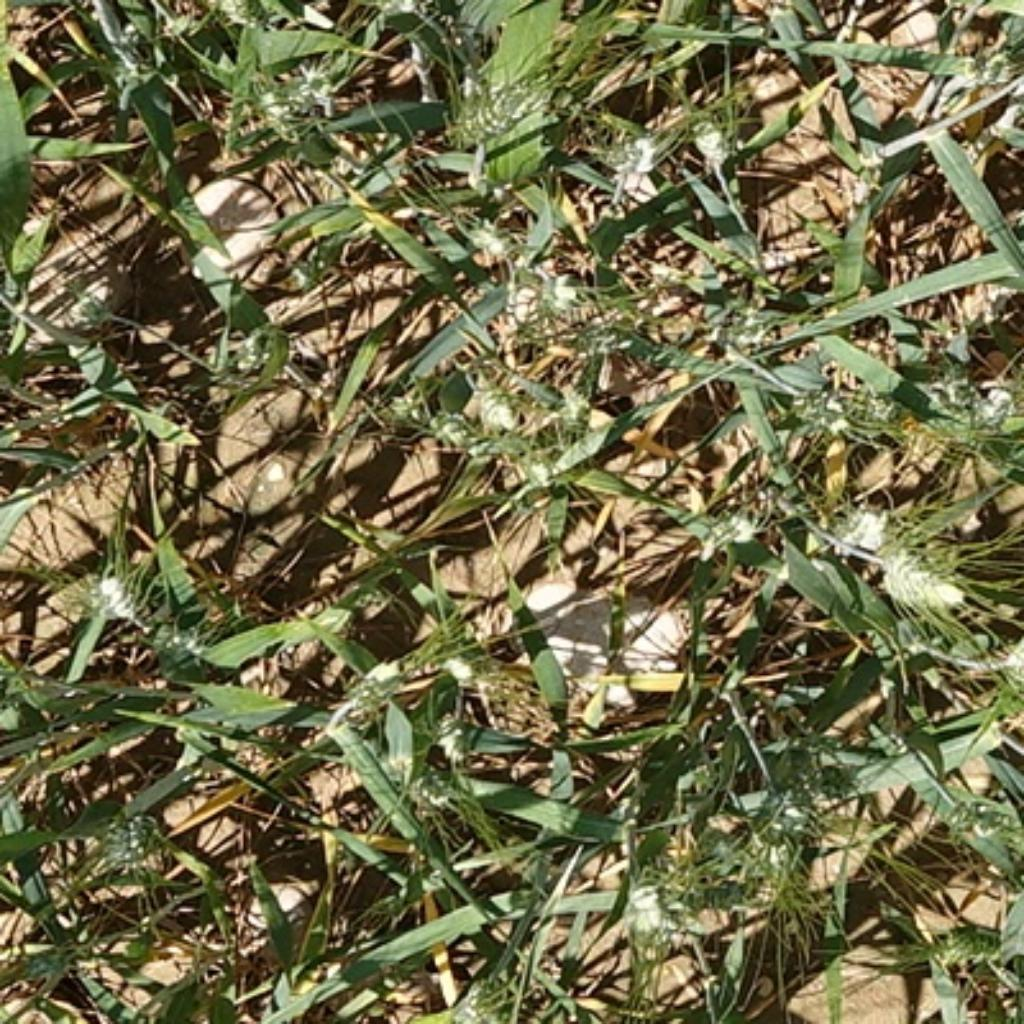0-0: (596, 852, 737, 965), (220, 38, 350, 143), (437, 51, 563, 148), (453, 363, 565, 460), (491, 248, 593, 345), (727, 785, 849, 865), (865, 517, 970, 609), (768, 373, 901, 442), (197, 304, 296, 396), (81, 793, 174, 883), (645, 481, 762, 552), (673, 102, 762, 184), (419, 637, 517, 706), (12, 929, 97, 1008), (51, 555, 143, 622), (947, 371, 1024, 450), (586, 112, 670, 184), (389, 744, 468, 811), (140, 606, 215, 673), (337, 650, 409, 716), (192, 0, 281, 51), (816, 496, 893, 552), (950, 798, 1024, 849), (983, 619, 1024, 709), (447, 975, 521, 1024), (939, 921, 1008, 970), (463, 209, 519, 258)
